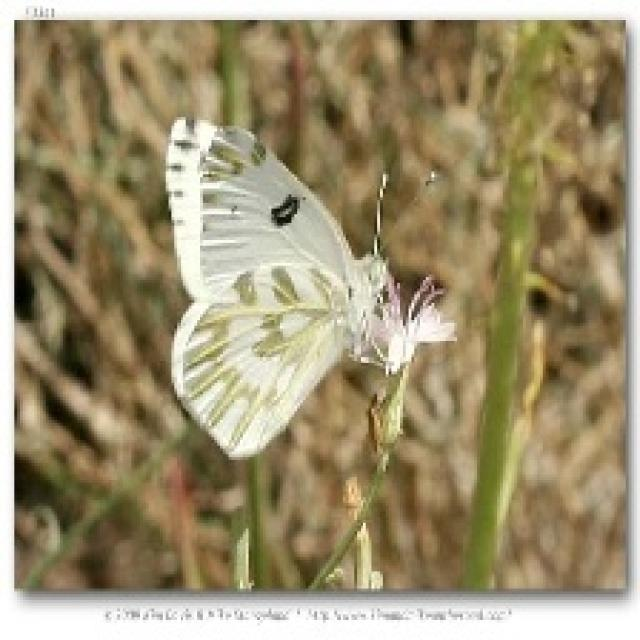butterfly: (160, 111, 451, 460)
